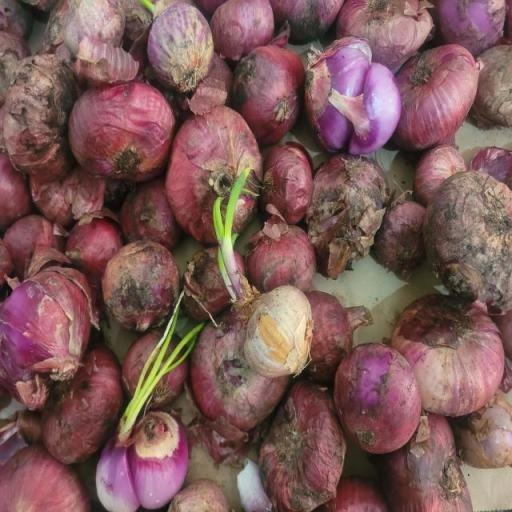damaged: (304, 37, 406, 161), (94, 422, 193, 512)
healthy: (73, 84, 172, 184), (398, 39, 478, 156)
